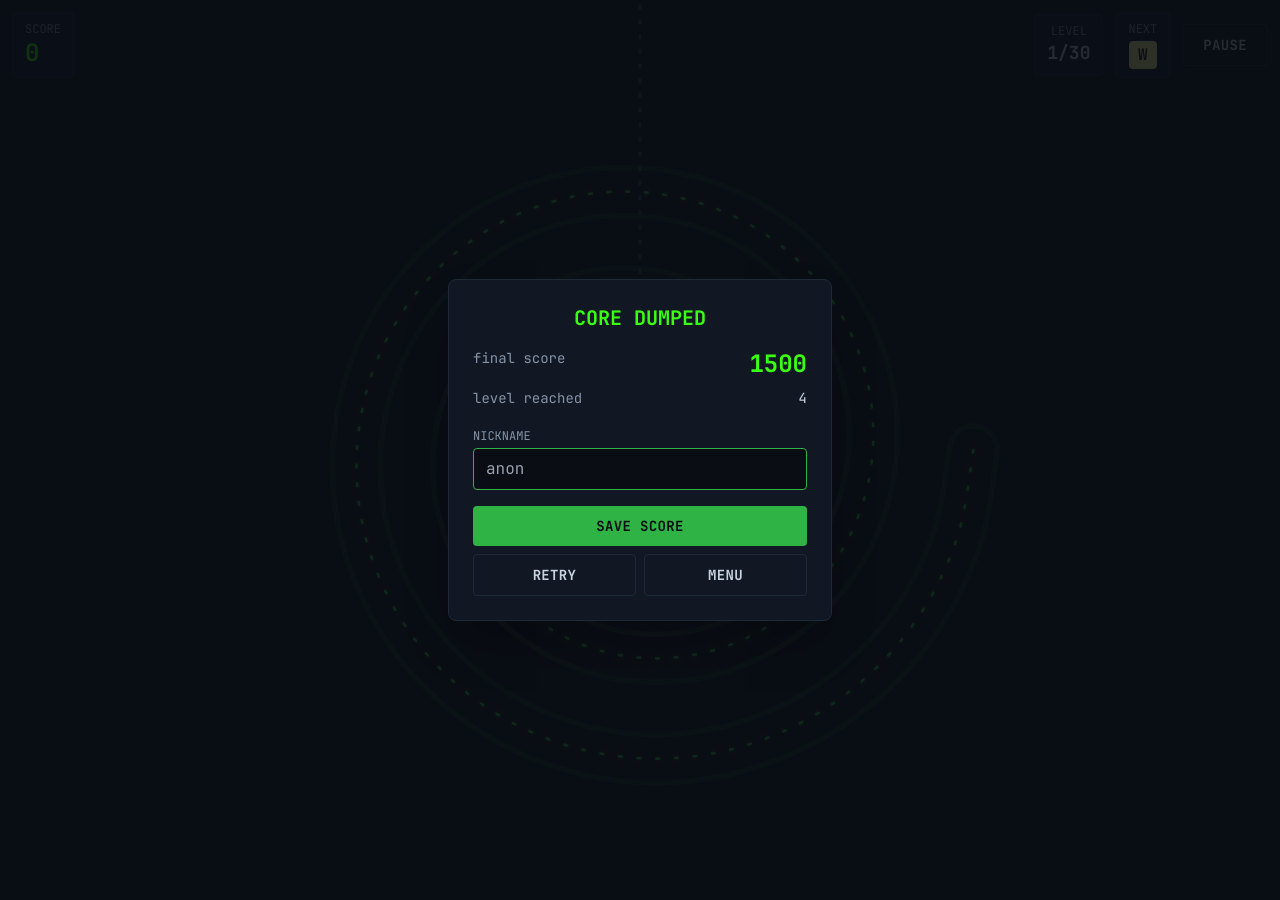
Test: GameScreen › saving the score › says the stored best is still higher when the run does not beat it
Type "neo" into the field labelled "nickname" at (640, 469), box [473,448,807,490]
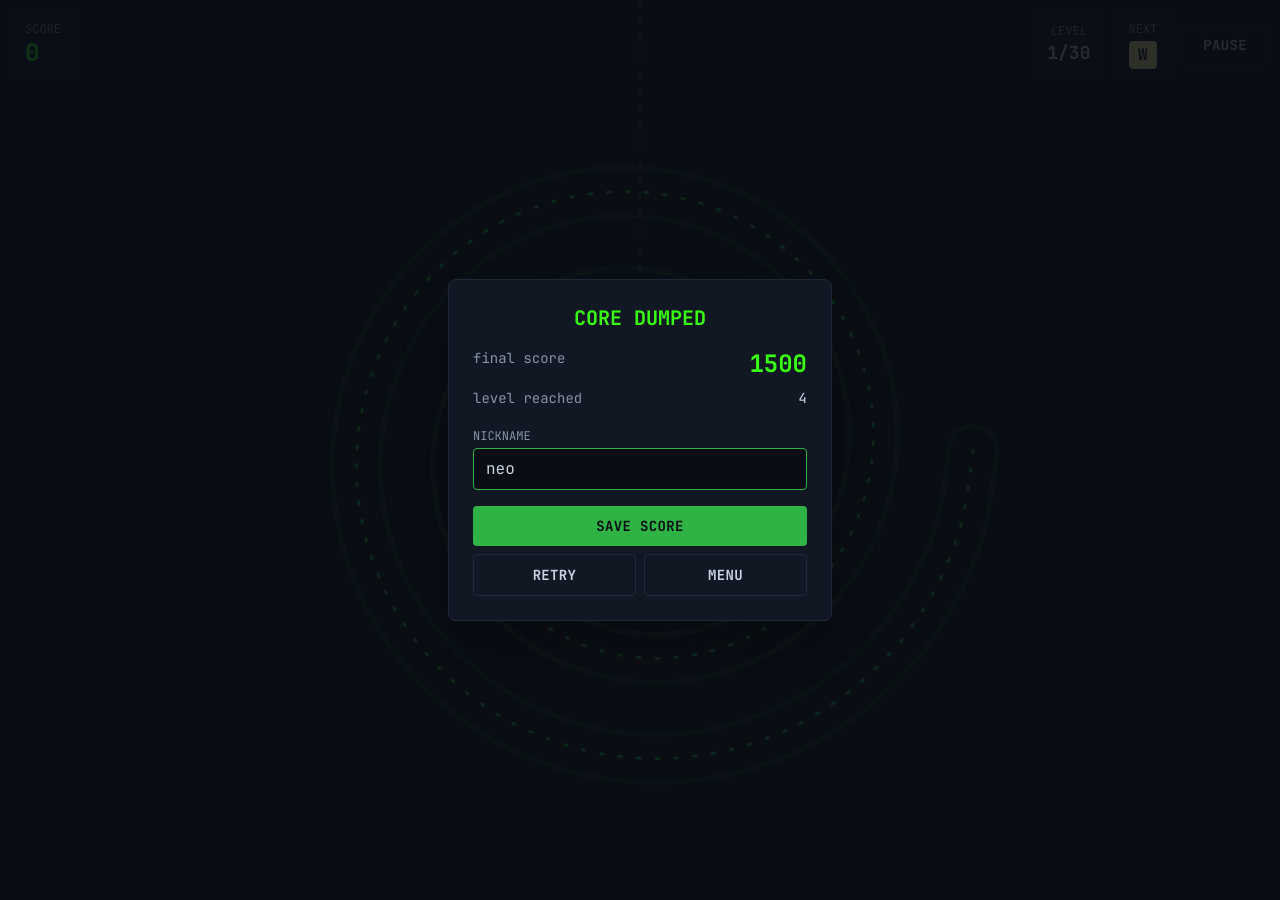
Click the button "Save score" at (640, 526), box [473,506,807,546]
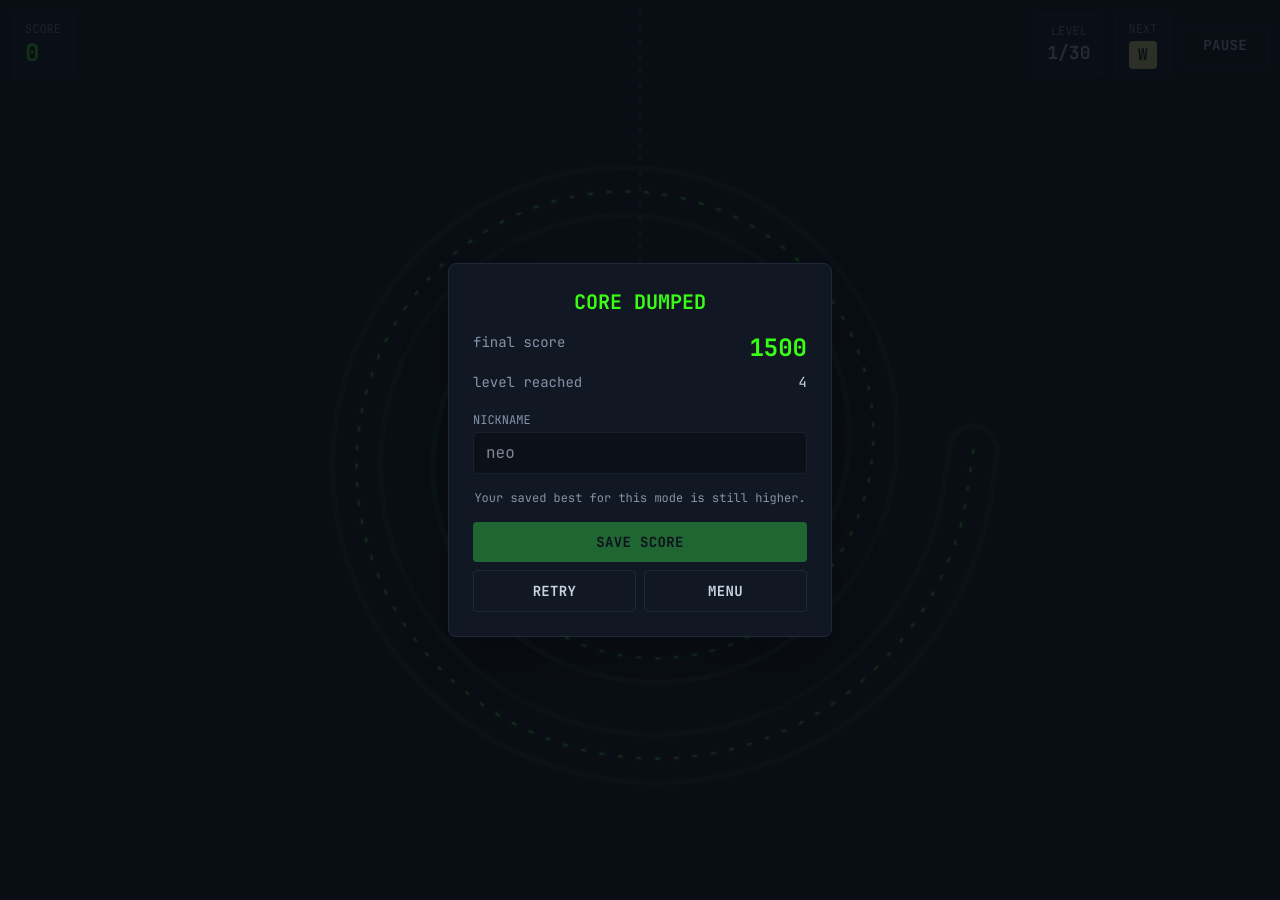
Check: the text "Your saved best for this mode is still higher." is shown, box [473,490,807,506]
